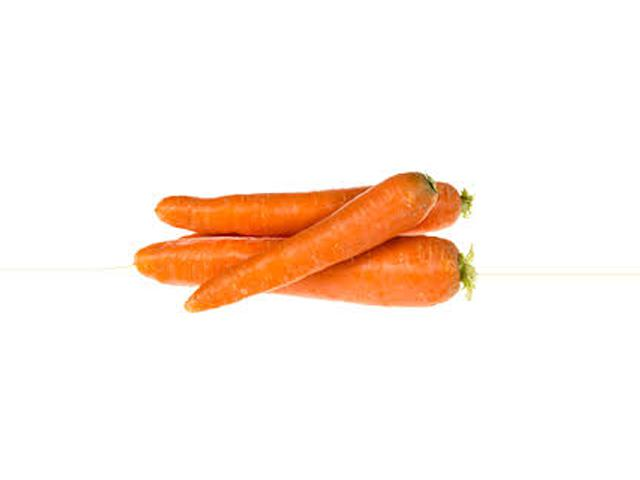carrot: (120, 242, 476, 306)
